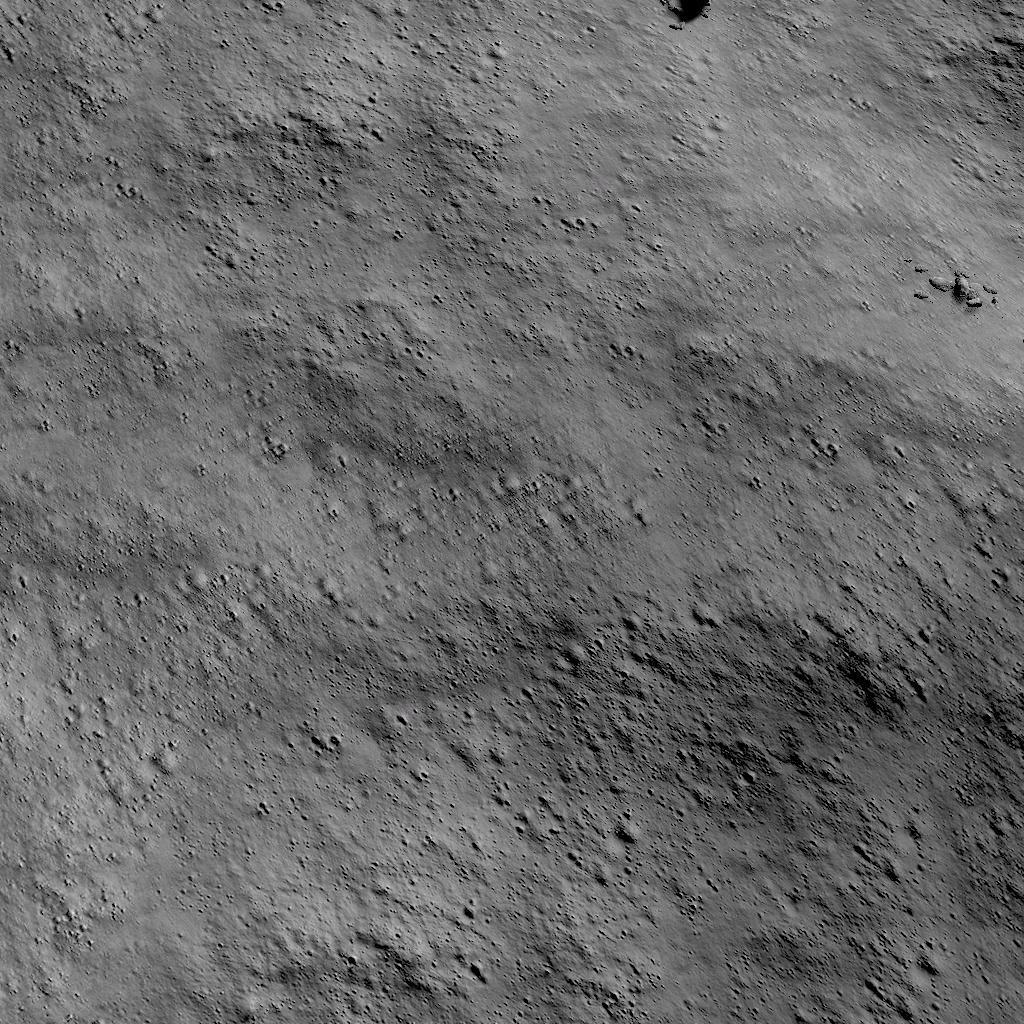Plan surface: (0, 35, 900, 1024)
